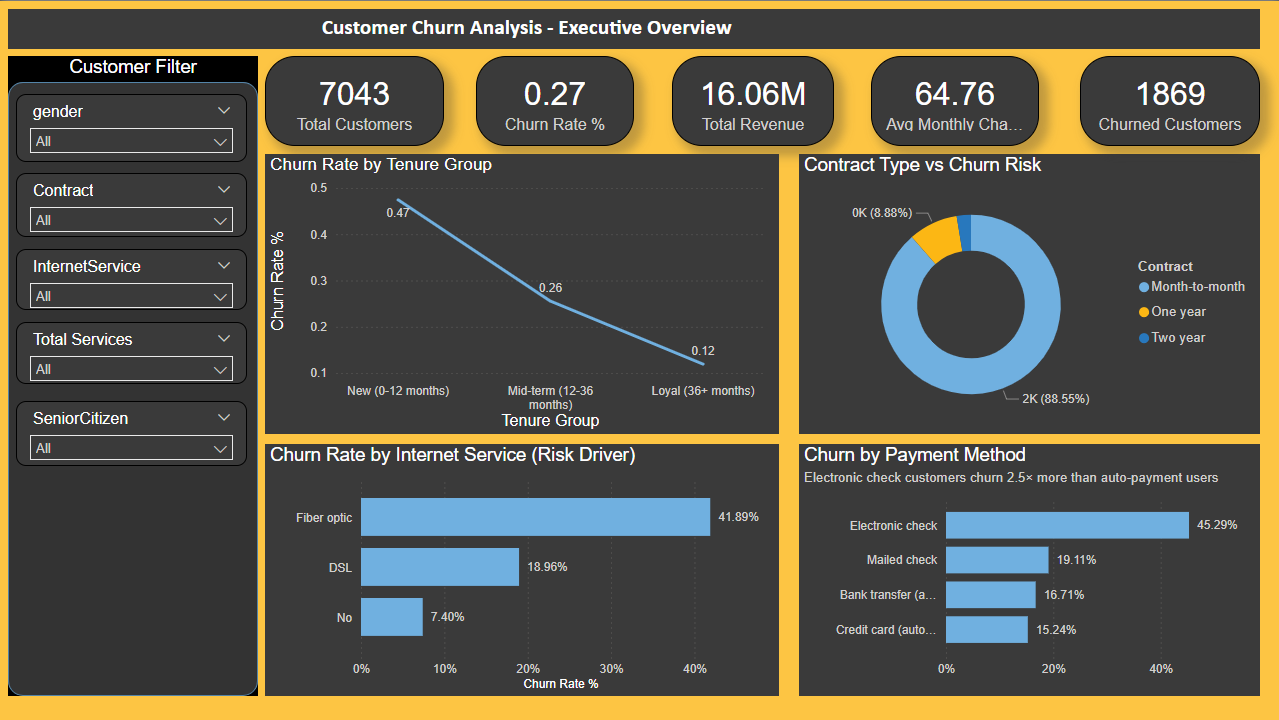

This screenshot's page, from the dashboard's own definition file:
{"tool":"powerbi","page":{"name":"Customer Churn Analysis - Executive Overview","canvas":[1280,720],"ordinal":0},"visuals":[{"type":"card","fields":{"Values":["WA_Fn-UseC_-Telco-Customer-Churn.Total Customers"]},"box":[265,55,179,90],"z":0},{"type":"card","title":"▲ +3% vs last quarter (bad)","fields":{"Values":["WA_Fn-UseC_-Telco-Customer-Churn.Churn Rate %"]},"box":[476,55,158,90],"z":1},{"type":"card","fields":{"Values":["WA_Fn-UseC_-Telco-Customer-Churn.Total Revenue"]},"box":[672,55,162,90],"z":2},{"type":"card","fields":{"Values":["WA_Fn-UseC_-Telco-Customer-Churn.Avg Monthly Charges"]},"box":[871,55,168,90],"z":3},{"type":"donutChart","title":"Contract Type vs Churn Risk","fields":{"Y":["WA_Fn-UseC_-Telco-Customer-Churn.Churned Customers"],"Series":["WA_Fn-UseC_-Telco-Customer-Churn.Contract"]},"box":[799,153,461,280],"z":4},{"type":"lineChart","title":"Churn Rate by Tenure Group","fields":{"Y":["WA_Fn-UseC_-Telco-Customer-Churn.Churn Rate %"],"Category":["WA_Fn-UseC_-Telco-Customer-Churn.Tenure Group"]},"box":[265,153,514,280],"z":5},{"type":"clusteredBarChart","title":"Churn Rate by Internet Service (Risk Driver)","fields":{"Category":["WA_Fn-UseC_-Telco-Customer-Churn.InternetService"],"Y":["WA_Fn-UseC_-Telco-Customer-Churn.Churn Rate %"]},"box":[265,443,514,252],"z":6},{"type":"barChart","title":"Churn by Payment Method","fields":{"Category":["WA_Fn-UseC_-Telco-Customer-Churn.PaymentMethod"],"Y":["WA_Fn-UseC_-Telco-Customer-Churn.Churn Rate %"]},"box":[799,443,461,252],"z":7},{"type":"shape","title":"Customer Filter","box":[8,55,250,640],"z":8},{"type":"slicer","fields":{"Values":["WA_Fn-UseC_-Telco-Customer-Churn.gender"]},"box":[16,93,231,68],"z":9},{"type":"slicer","fields":{"Values":["WA_Fn-UseC_-Telco-Customer-Churn.Contract"]},"box":[16,172,231,64],"z":10},{"type":"slicer","fields":{"Values":["WA_Fn-UseC_-Telco-Customer-Churn.InternetService"]},"box":[16,248,231,61],"z":11},{"type":"slicer","fields":{"Values":["WA_Fn-UseC_-Telco-Customer-Churn.Total Services"]},"box":[16,321,231,62],"z":12},{"type":"slicer","fields":{"Values":["WA_Fn-UseC_-Telco-Customer-Churn.SeniorCitizen"]},"box":[16,400,231,65],"z":13},{"type":"card","fields":{"Values":["WA_Fn-UseC_-Telco-Customer-Churn.Churned Customers"]},"box":[1080,55,180,90],"z":14},{"type":"textbox","box":[8,8,1252,40],"z":15}]}

Visuals, with their boxes in screenshot pixels (x1, y1, x2, y2), scaled from the page's 1280x720 canvas onto the 1279x720 screenshot:
card - WA_Fn-UseC_-Telco-Customer-Churn.Total Customers: <box>265,55,444,145</box>
"▲ +3% vs last quarter (bad)" card: <box>476,55,634,145</box>
card - WA_Fn-UseC_-Telco-Customer-Churn.Total Revenue: <box>671,55,833,145</box>
card - WA_Fn-UseC_-Telco-Customer-Churn.Avg Monthly Charges: <box>870,55,1038,145</box>
"Contract Type vs Churn Risk" donutChart: <box>798,153,1259,433</box>
"Churn Rate by Tenure Group" lineChart: <box>265,153,778,433</box>
"Churn Rate by Internet Service (Risk Driver)" clusteredBarChart: <box>265,443,778,695</box>
"Churn by Payment Method" barChart: <box>798,443,1259,695</box>
"Customer Filter" shape: <box>8,55,258,695</box>
slicer - WA_Fn-UseC_-Telco-Customer-Churn.gender: <box>16,93,247,161</box>
slicer - WA_Fn-UseC_-Telco-Customer-Churn.Contract: <box>16,172,247,236</box>
slicer - WA_Fn-UseC_-Telco-Customer-Churn.InternetService: <box>16,248,247,309</box>
slicer - WA_Fn-UseC_-Telco-Customer-Churn.Total Services: <box>16,321,247,383</box>
slicer - WA_Fn-UseC_-Telco-Customer-Churn.SeniorCitizen: <box>16,400,247,465</box>
card - WA_Fn-UseC_-Telco-Customer-Churn.Churned Customers: <box>1079,55,1259,145</box>
textbox: <box>8,8,1259,48</box>
